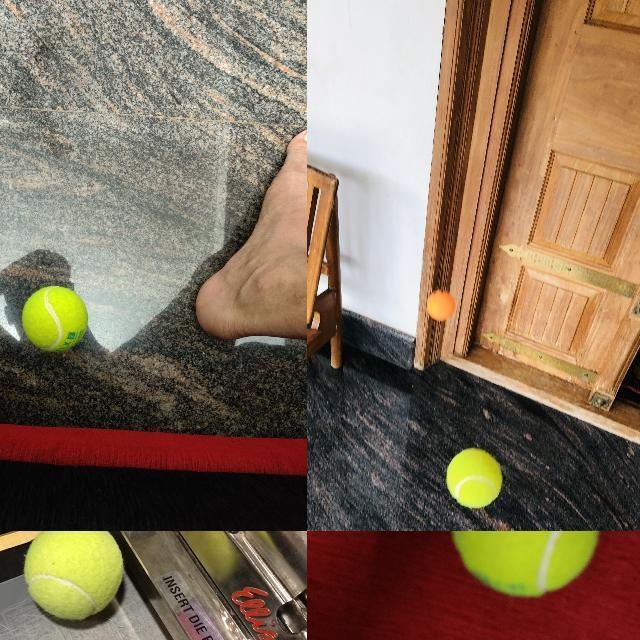tennis-ball: (448, 531, 600, 598), (24, 531, 125, 622), (22, 286, 88, 352), (447, 450, 502, 507)
